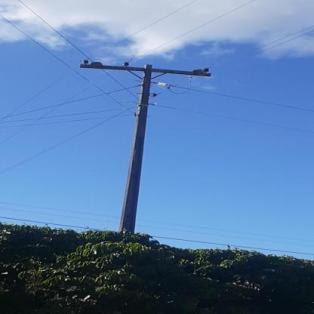Poste: (104, 62, 157, 236)
